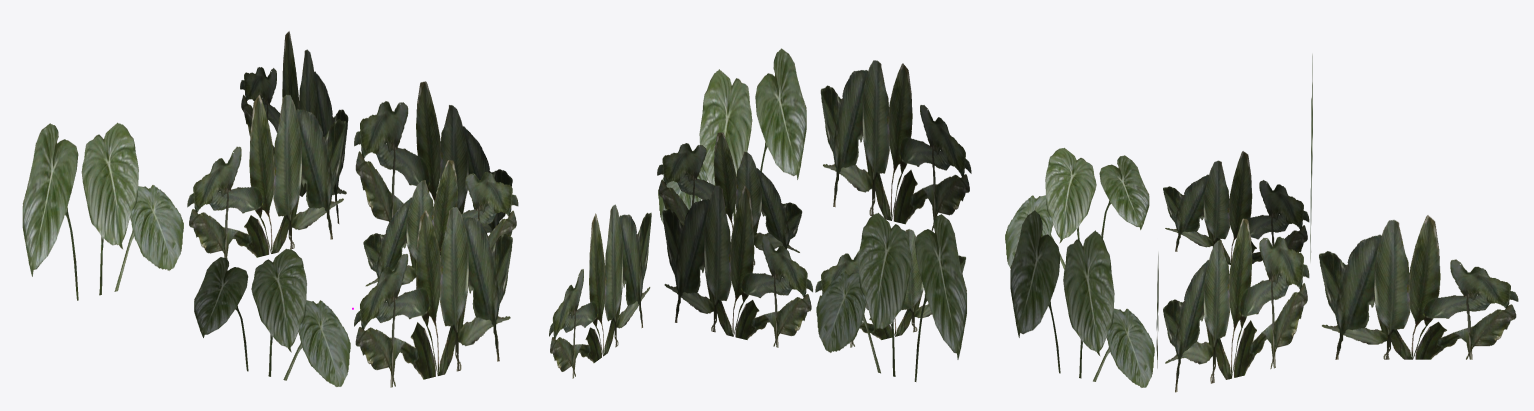
File: mveg5c.glb
3 views of the same model, side by side, from view 1: azimuth 30°, elevation 25°; view 2: azimuth 150°, elevation 25°; view 3: azimuth 270°, elevation 25° (orthographic). The views are drawn at different scales.
Parts seen in each view (by area): view 1: 01 Mesh0; view 2: 01 Mesh0; view 3: 01 Mesh0.
Part boxes in pixels (x1,y1,x2,y2): 01 Mesh0: (22,31,518,387); 01 Mesh0: (549,48,971,381); 01 Mesh0: (1005,54,1518,392).
Size of the model in its own units: 4.74 by 2.26 by 5.47.
Materials: 2 (1 with a texture image).
